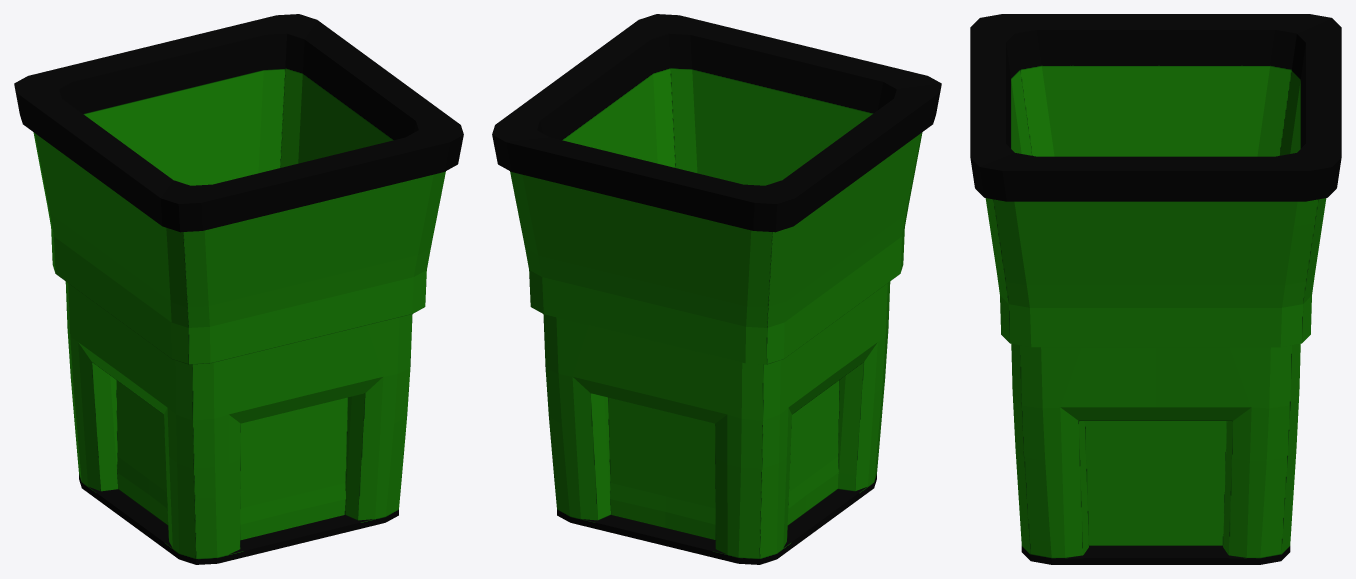
File: Trash_Bin.fbx
3 renders of one model, left to right at view 1: azimuth 30°, elevation 25°; view 2: azimuth 150°, elevation 25°; view 3: azimuth 270°, elevation 25°, orthographic. The views are drawn at different scales.
Parts seen in each view (by area): view 1: Cube; view 2: Cube; view 3: Cube.
Boxes of the visible parts, x1,y1,x2,y2 form: Cube: (14,14,463,564); Cube: (492,14,941,564); Cube: (970,14,1341,564).
Bounding box in the file's own units: 221 × 273 × 221.
